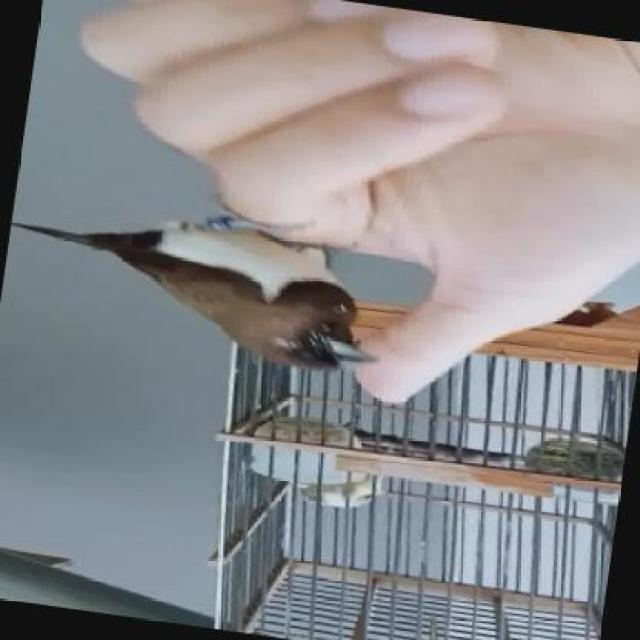Bird: (24, 202, 379, 383)
